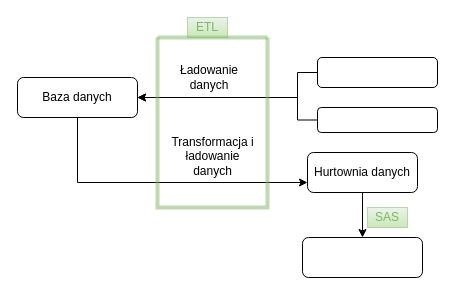
The diagram is 455 pixels wide and 295 high, and some of its shapes have lost their labels. The box of each missing label's shape, as (x1, y1, x2, y2) in pixels:
Airbnb: (316, 106, 438, 132)
Eurostat: (316, 56, 438, 88)
Raport i wizualizacja: (302, 236, 422, 278)
